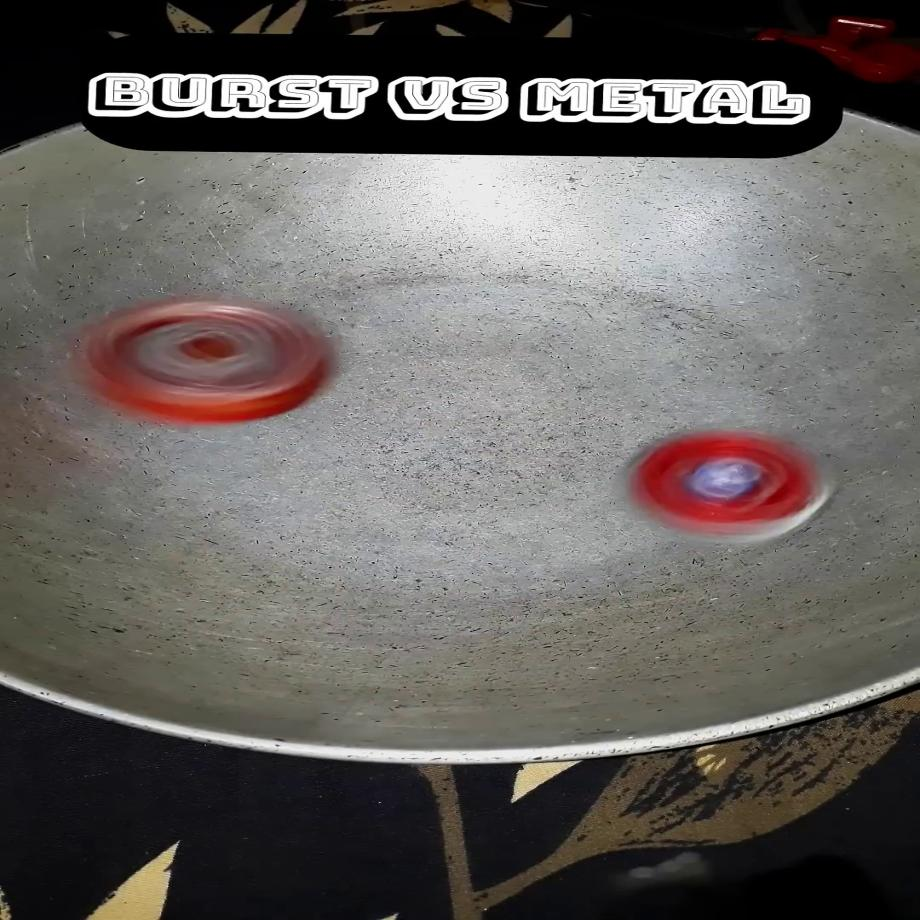beyblade: (55, 274, 343, 444), (611, 418, 858, 557)
